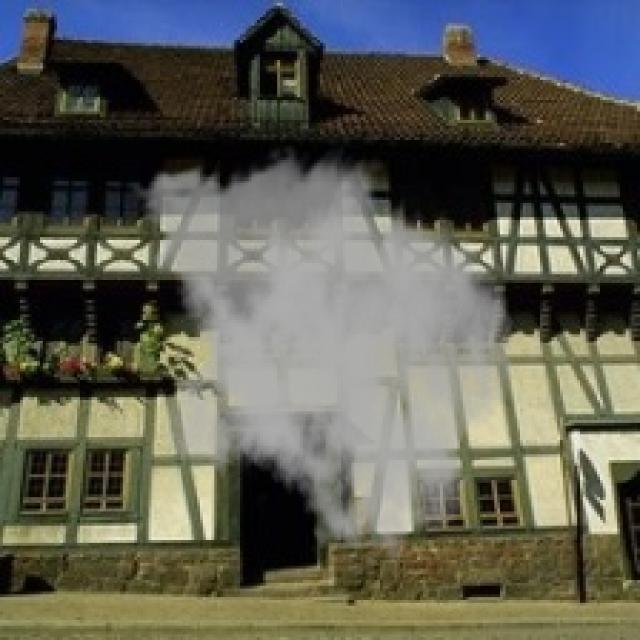smoke: (126, 143, 514, 566)
